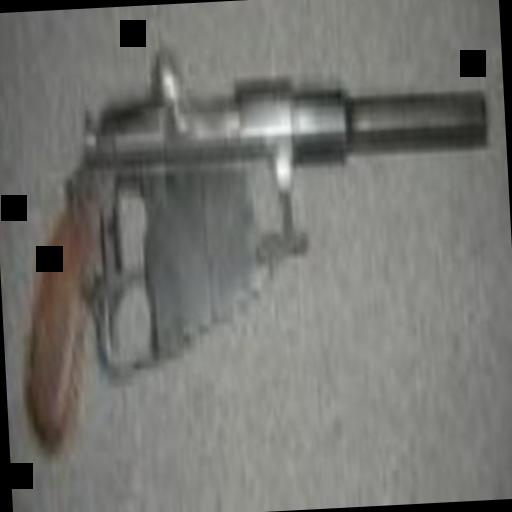Handgun: (0, 25, 500, 451)
